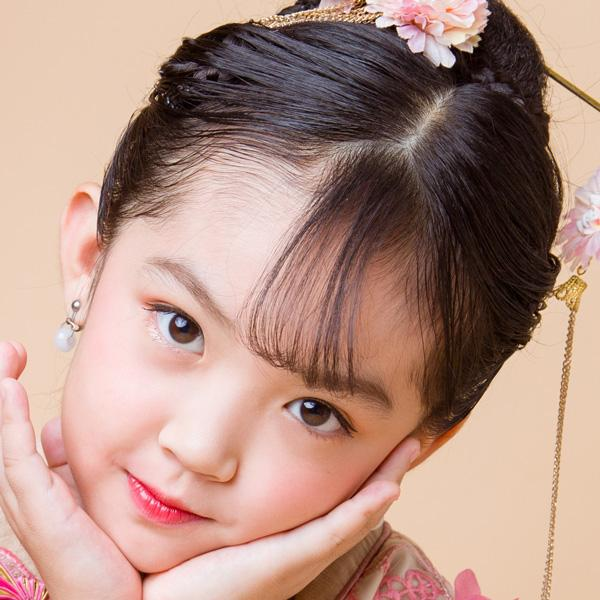Eyes: (136, 292, 209, 362), (276, 386, 356, 448)
